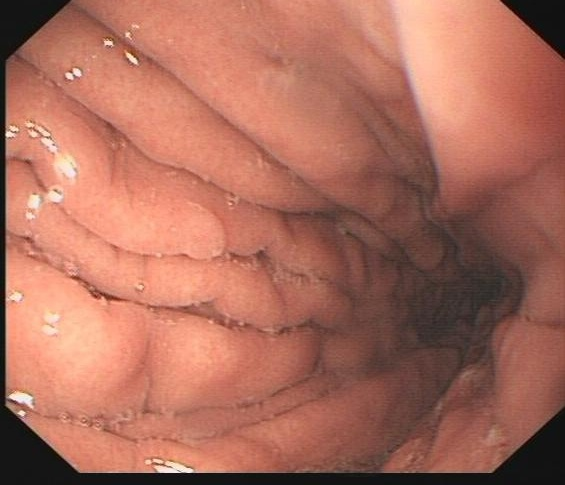Polyp: (170, 197, 235, 272)
